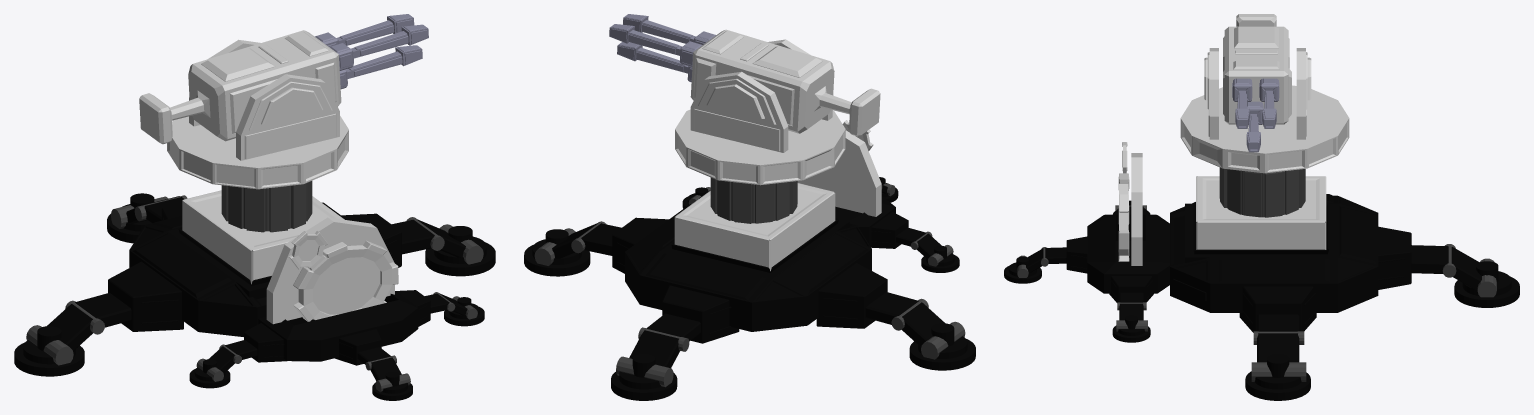
The model's file is taretparc6fbx (1).fbx.
3 views of the same model, side by side, from view 1: azimuth 30°, elevation 25°; view 2: azimuth 150°, elevation 25°; view 3: azimuth 270°, elevation 25° (orthographic). The views are drawn at different scales.
Visible parts, largest first — view 1: Cube.002, vidalar, Cube.001, gövde, leg1, gövde.002, gövde.001, namlu, gövde.003, leg3, leg1.002, LittleLeg1 (+11 smaller); view 2: gövde, Cube.002, Cube.001, gövde.002, leg1, leg2, vidalar, namlu, gövde.003, leg3, leg2.002, leg1.002 (+7 smaller); view 3: gövde, Cube.002, gövde.002, Cube.001, gövde.001, leg3, leg2, gövde.003, vidalar, namlu, leg3.002, leg2.002 (+6 smaller).
Boxes of the visible parts, x1=… form: Cube.002: x1=167, y1=39, x2=348, y2=189; vidalar: x1=266, y1=217, x2=398, y2=324; Cube.001: x1=139, y1=30, x2=341, y2=144; gövde: x1=129, y1=202, x2=392, y2=336; leg1: x1=47, y1=261, x2=183, y2=350; gövde.002: x1=182, y1=190, x2=344, y2=284; gövde.001: x1=258, y1=291, x2=418, y2=361; namlu: x1=315, y1=14, x2=428, y2=89; gövde.003: x1=221, y1=181, x2=312, y2=232; leg3: x1=341, y1=213, x2=465, y2=267; leg1.002: x1=14, y1=326, x2=84, y2=376; LittleLeg1: x1=208, y1=323, x2=286, y2=373; gövde: x1=625, y1=192, x2=871, y2=331; Cube.002: x1=675, y1=39, x2=845, y2=185; Cube.001: x1=690, y1=29, x2=880, y2=136; gövde.002: x1=674, y1=183, x2=835, y2=271; leg1: x1=816, y1=263, x2=944, y2=346; leg2: x1=629, y1=285, x2=739, y2=368; vidalar: x1=797, y1=120, x2=881, y2=216; namlu: x1=609, y1=14, x2=715, y2=82; gövde.003: x1=675, y1=177, x2=797, y2=240; leg3: x1=552, y1=217, x2=668, y2=273; leg2.002: x1=611, y1=353, x2=677, y2=400; leg1.002: x1=909, y1=323, x2=975, y2=370; gövde: x1=1170, y1=194, x2=1378, y2=312; Cube.002: x1=1180, y1=48, x2=1349, y2=173; gövde.002: x1=1196, y1=176, x2=1326, y2=249; Cube.001: x1=1223, y1=14, x2=1291, y2=124; gövde.001: x1=1087, y1=214, x2=1169, y2=293; leg3: x1=1239, y1=286, x2=1316, y2=362; leg2: x1=1378, y1=226, x2=1481, y2=289; gövde.003: x1=1219, y1=167, x2=1325, y2=222; vidalar: x1=1118, y1=142, x2=1142, y2=265; namlu: x1=1232, y1=78, x2=1279, y2=152; leg3.002: x1=1245, y1=354, x2=1310, y2=400; leg2.002: x1=1454, y1=261, x2=1519, y2=307.
Bounding box in the file's own units: 811 × 441 × 827.
